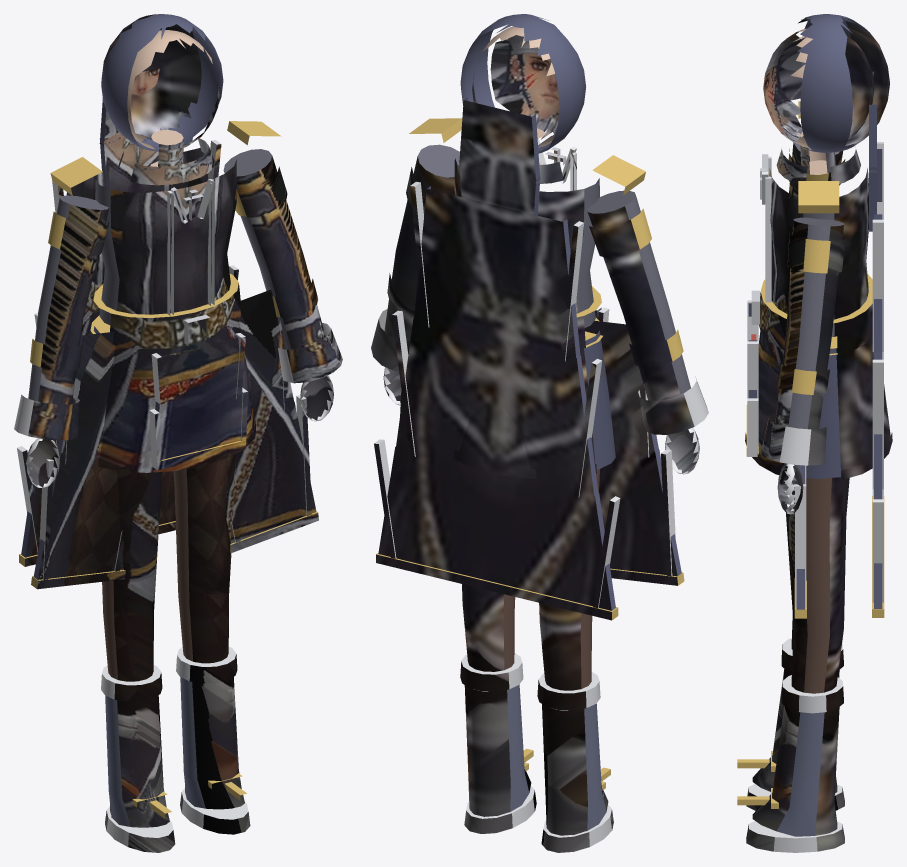
The model's file is airblade_hero.glb.
3 renders of one model, left to right at view 1: azimuth 30°, elevation 25°; view 2: azimuth 150°, elevation 25°; view 3: azimuth 270°, elevation 25°, orthographic. The views are drawn at different scales.
Parts seen in each view (by area): view 1: body, arms, leg_R, leg_L, coat_L_1, coat_R_1, flap_0, flap_1, coat_R_0, coat_L_0, coat_back_2, veil_1 (+2 smaller); view 2: coat_back_2, body, coat_back_0, coat_back_1, arms, leg_L, leg_R, coat_L_1, veil_0, coat_L_0, veil_1; view 3: body, leg_R, arms, leg_L, coat_back_0, coat_back_1, coat_back_2, coat_R_1, flap_0, flap_1, veil_0, veil_1.
Boxes of the visible parts, x1,y1,x2,y2 form: body: (50,14,281,472); arms: (14,149,342,487); leg_R: (173,453,250,834); leg_L: (101,471,175,852); coat_L_1: (31,455,125,589); coat_R_1: (230,395,318,552); flap_0: (151,333,245,418); flap_1: (149,387,248,470); coat_R_0: (239,287,295,422); coat_L_0: (57,331,115,464); coat_back_2: (17,442,175,566); veil_1: (100,136,174,192); coat_back_2: (374,439,620,620); body: (409,14,645,478); coat_back_0: (410,181,583,363); coat_back_1: (392,310,602,501); arms: (371,144,708,474); leg_L: (537,369,613,852); leg_R: (460,584,536,833); coat_L_1: (599,449,684,585); veil_0: (459,97,540,184); coat_L_0: (584,320,658,457); veil_1: (459,160,540,215); body: (745,14,892,479); leg_R: (737,388,849,852); arms: (761,128,845,514); leg_L: (737,614,844,810); coat_back_0: (872,142,883,351); coat_back_1: (872,351,883,491); coat_back_2: (872,489,884,617); coat_R_1: (794,482,806,618); flap_0: (747,300,758,398); flap_1: (746,398,758,456); veil_0: (869,71,876,172); veil_1: (869,167,876,231).
Size of the model in its own units: 0.7251 by 1.72 by 0.301.
Materials: 12 (2 with a texture image).
